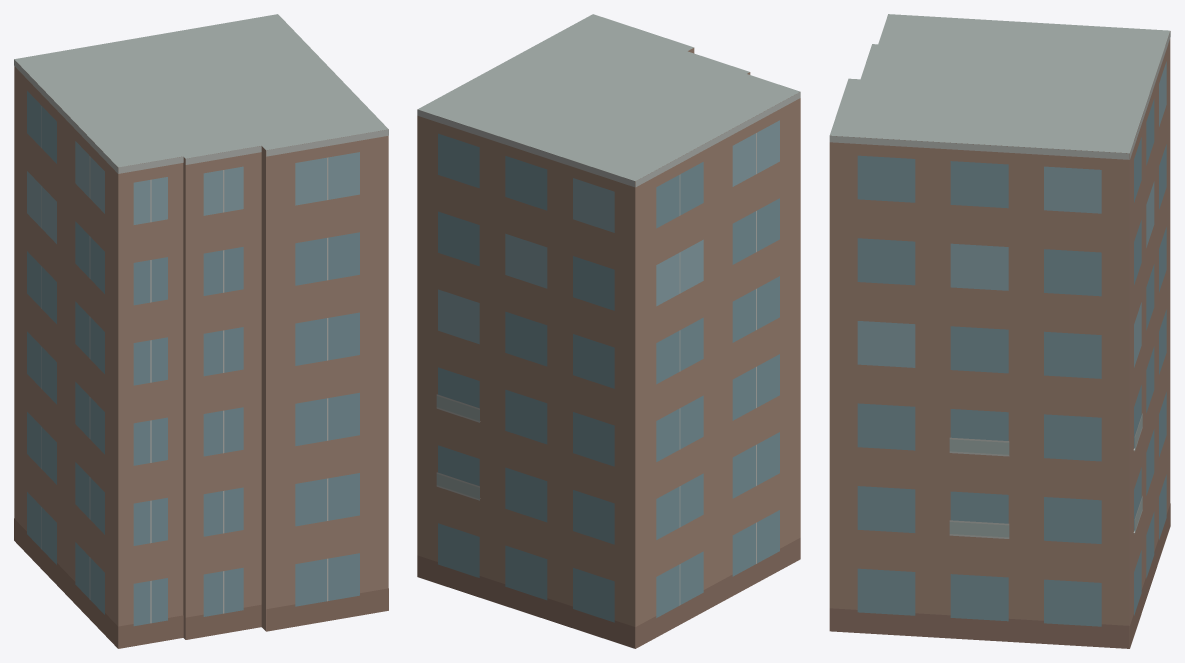
Rendered from survey-upis-32670587.glb.
3 views of the same model, side by side, from view 1: azimuth 30°, elevation 25°; view 2: azimuth 150°, elevation 25°; view 3: azimuth 270°, elevation 25° (orthographic). The views are drawn at different scales.
Visible parts, largest first — view 1: survey-upis-32670587.tmp; view 2: survey-upis-32670587.tmp; view 3: survey-upis-32670587.tmp.
Part boxes in pixels (left/top/right/bottom): survey-upis-32670587.tmp: left=14, top=14, right=388, bottom=648; survey-upis-32670587.tmp: left=417, top=14, right=800, bottom=648; survey-upis-32670587.tmp: left=829, top=14, right=1170, bottom=648.
Bounding box in the file's own units: 11.01 × 18.25 × 11.39.
